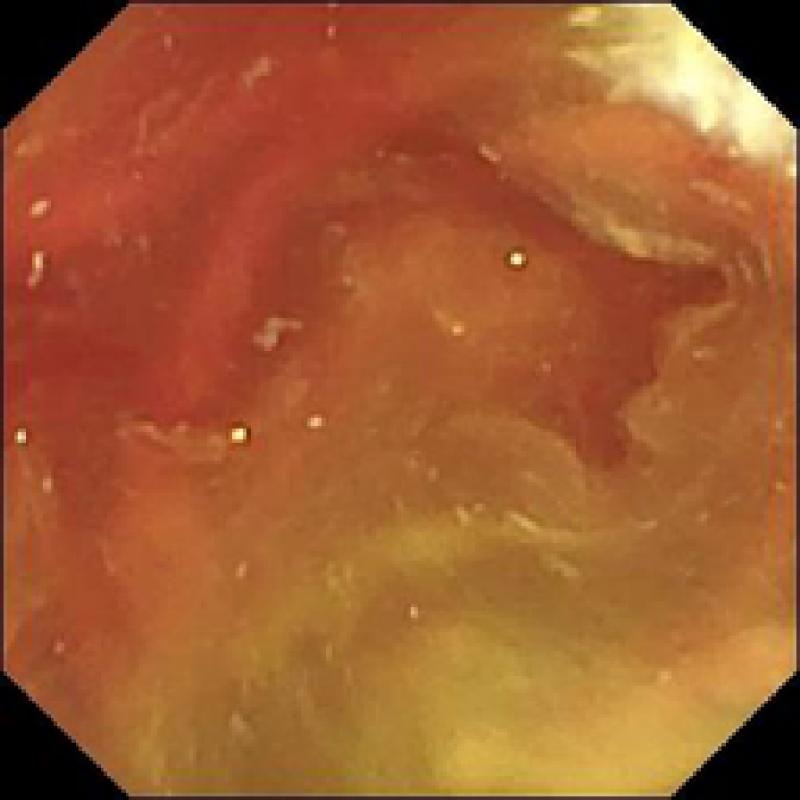bleeding: (0, 0, 713, 636)
